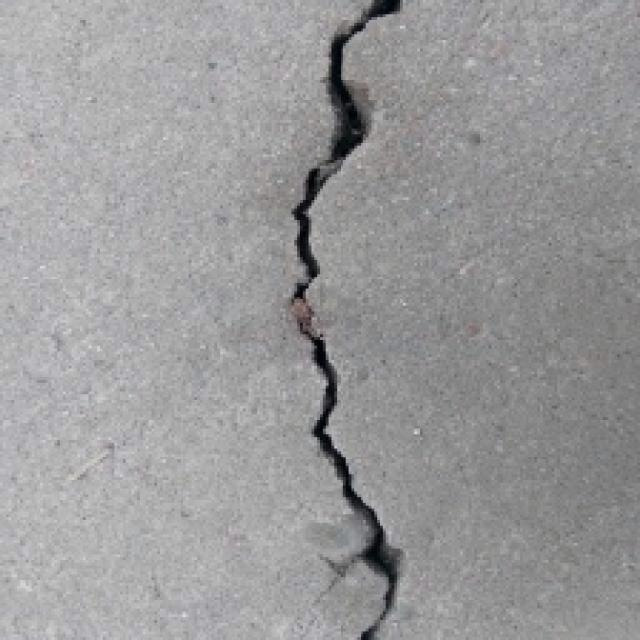SurfaceCrack: (270, 0, 466, 640)
